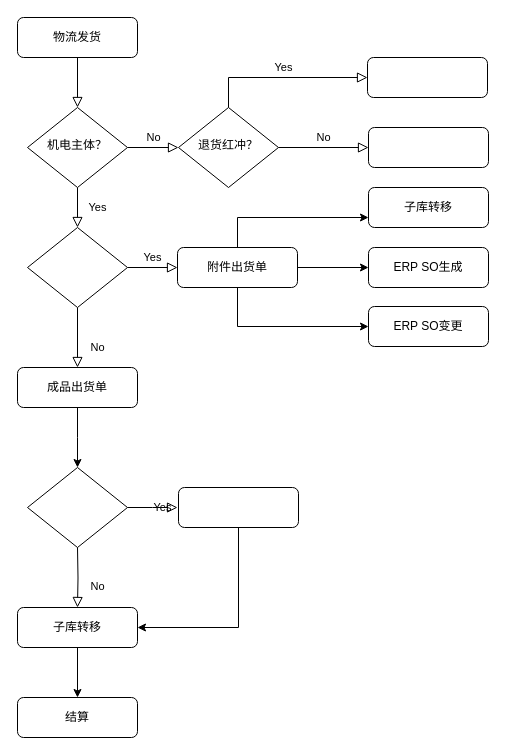
Image size: 506x755. Some labels were removed from this diagram. Here are the shapes that lost their labels. From the top down, the centre of each, then its label:
At [427,77]: "退货红冲单".
At [428,147]: "销售单".
At [77,267]: "附件出货？".
At [77,507]: "内部客户？".
At [238,507]: "关联物流".
